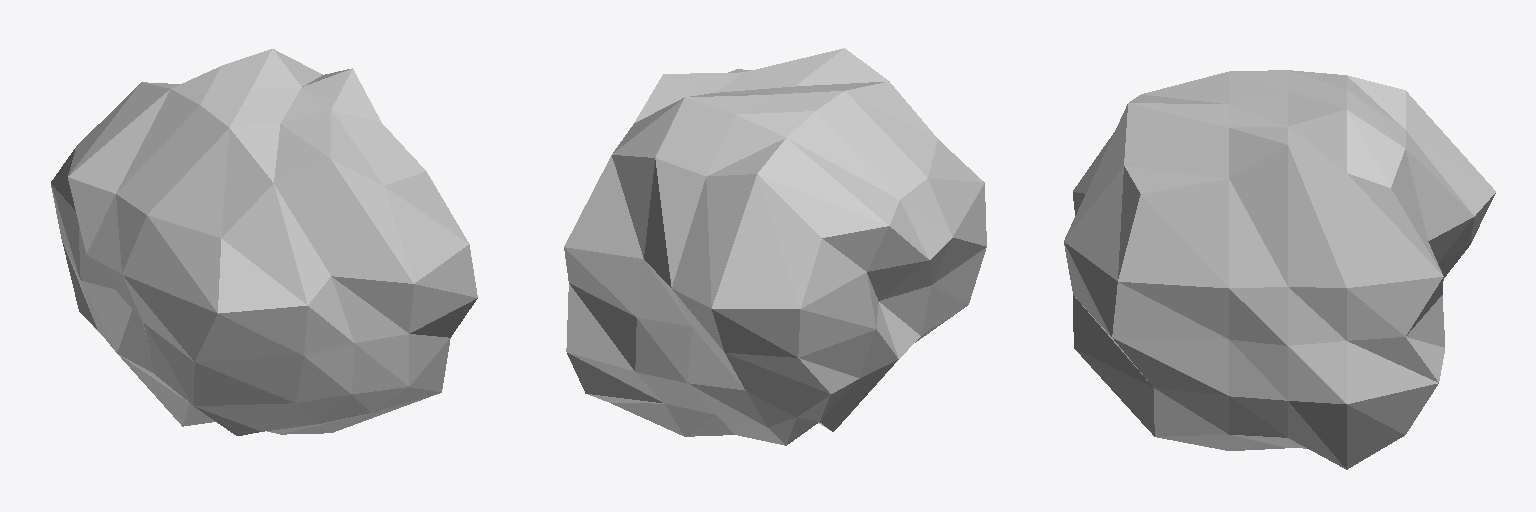
File: Marcophage Shell.obj
The picture shows the model from 3 angles: view 1: azimuth 30°, elevation 25°; view 2: azimuth 150°, elevation 25°; view 3: azimuth 270°, elevation 25°; orthographic projection.
Parts seen in each view (by area): view 1: Cube; view 2: Cube; view 3: Cube.
Part boxes in pixels (x1,y1,x2,y2): Cube: (51,49,477,435); Cube: (564,48,986,445); Cube: (1064,70,1495,469).
Size of the model in its own units: 3.26 by 3.21 by 3.68.